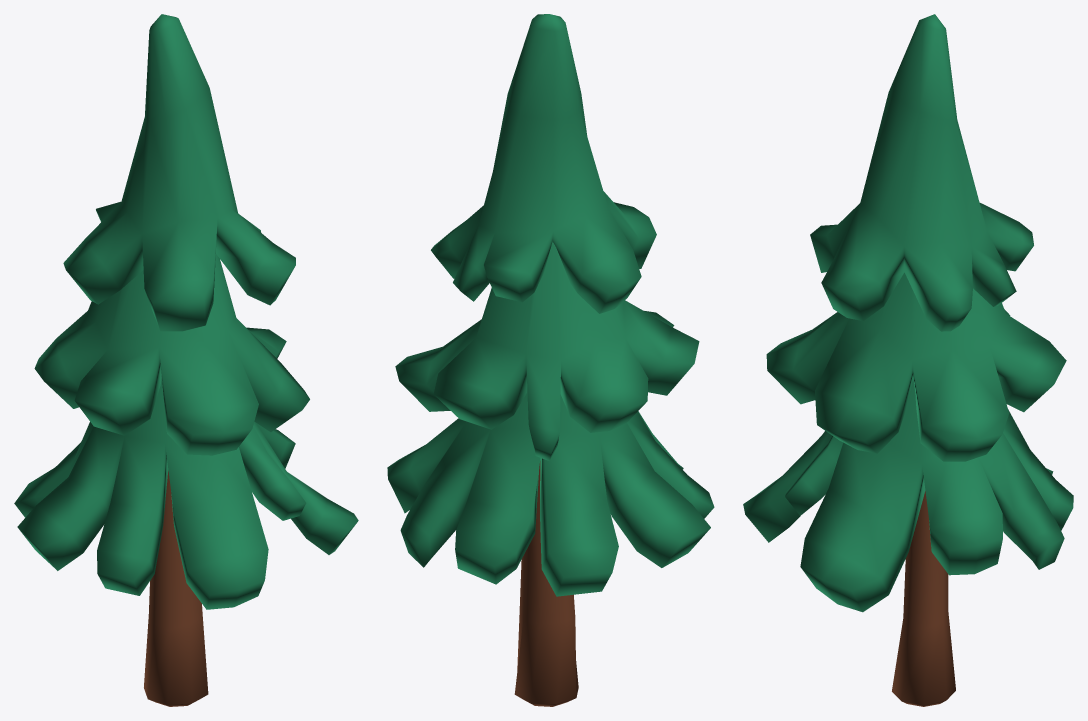
The model's file is Pine_01_LOD2.gltf.
The picture shows the model from 3 angles, left to right: view 1: azimuth 30°, elevation 25°; view 2: azimuth 150°, elevation 25°; view 3: azimuth 270°, elevation 25°; orthographic projection.
Visible parts, largest first — view 1: Pine_01_LOD2_Cylinder.757; view 2: Pine_01_LOD2_Cylinder.757; view 3: Pine_01_LOD2_Cylinder.757.
Part boxes in pixels (bbox=[...]): Pine_01_LOD2_Cylinder.757: bbox=[14, 14, 358, 706]; Pine_01_LOD2_Cylinder.757: bbox=[387, 14, 714, 706]; Pine_01_LOD2_Cylinder.757: bbox=[743, 14, 1073, 706].
Bounding box in the file's own units: 6.47 × 14.47 × 6.39.
Materials: 1 (1 with a texture image).
